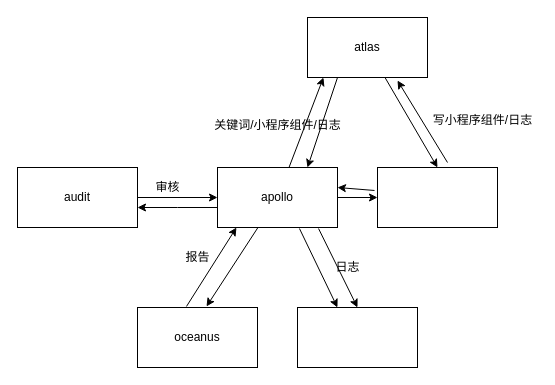
Image size: 555x385. Some labels were removed from this diagram. Each missing label, with the centre of its shape:
"bizlog" belongs at point 357,337.
"pangu" belongs at point 437,197.
